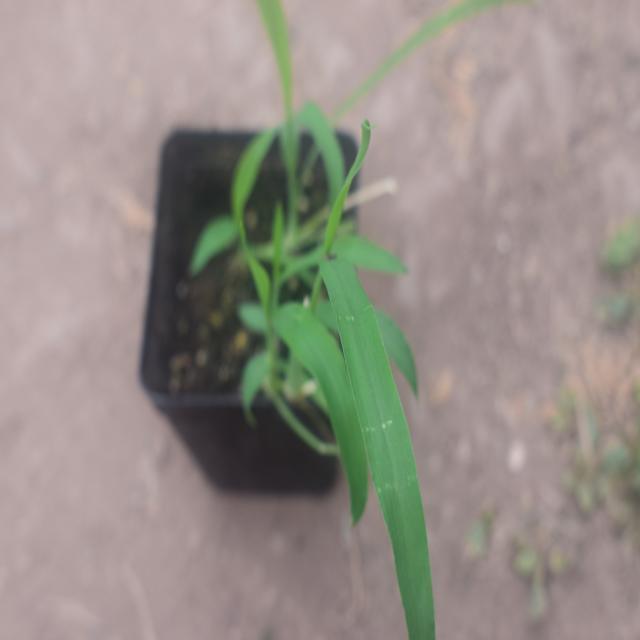crabgrass: (169, 55, 441, 620)
